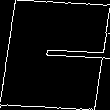L_W: (11, 37, 99, 73)
